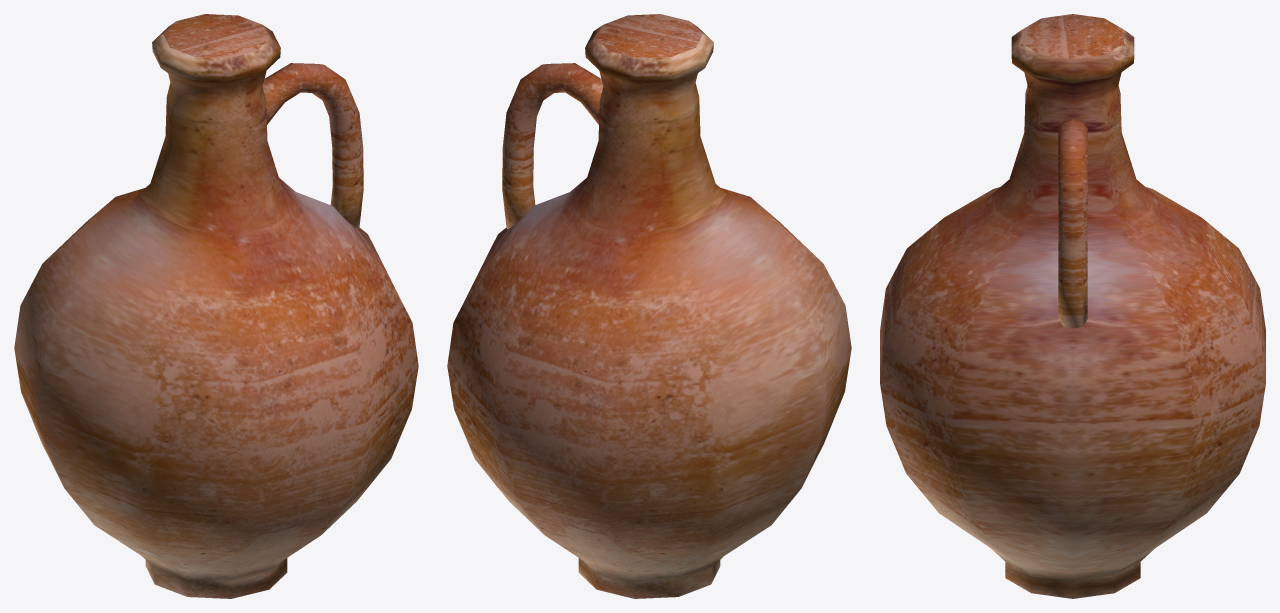
Rendered from amphora.fbx.
3 views of the same model, side by side, from view 1: azimuth 30°, elevation 25°; view 2: azimuth 150°, elevation 25°; view 3: azimuth 270°, elevation 25° (orthographic).
Parts seen in each view (by area): view 1: amphora; view 2: amphora; view 3: amphora.
Boxes of the visible parts, x1,y1,x2,y2 form: amphora: (14,14,418,598); amphora: (447,14,851,598); amphora: (880,14,1265,598).
Size of the model in its own units: 20.23 by 29.28 by 19.24.
